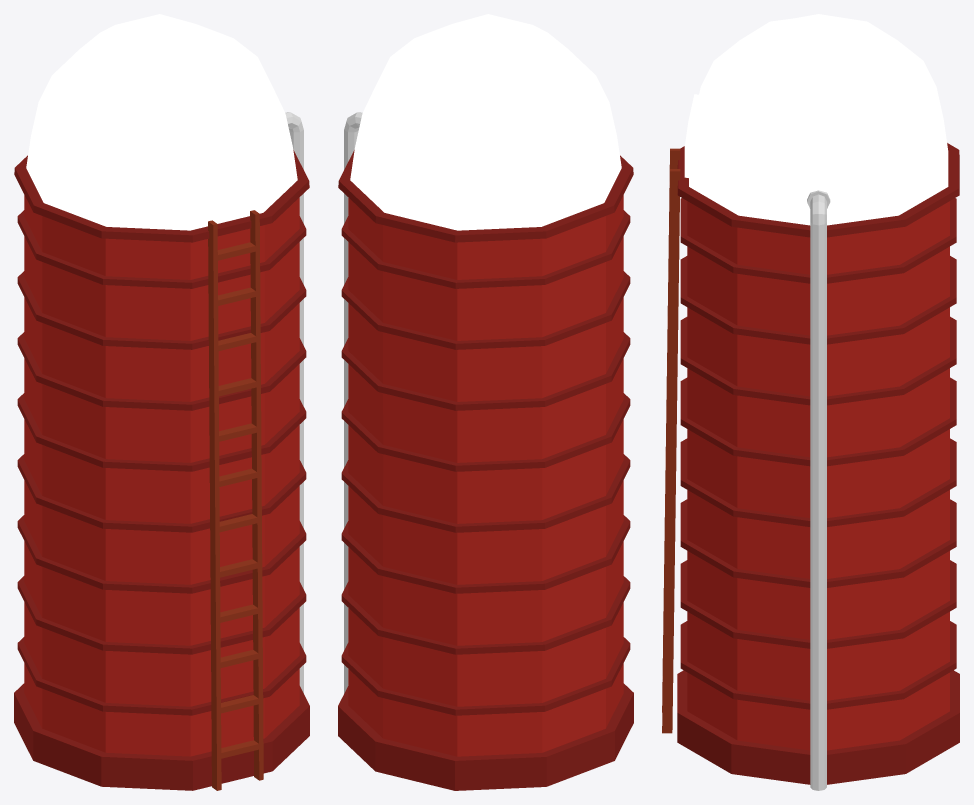
File: Farm_Silo.glb
The picture shows the model from 3 angles, left to right: view 1: azimuth 30°, elevation 25°; view 2: azimuth 150°, elevation 25°; view 3: azimuth 270°, elevation 25°; orthographic projection.
Visible parts, largest first — view 1: Silo; view 2: Silo; view 3: Silo.
Boxes of the visible parts, x1,y1,x2,y2 form: Silo: (14,14,309,790); Silo: (338,14,633,790); Silo: (662,14,959,790).
Bounding box in the file's own units: 367 × 907 × 351.
